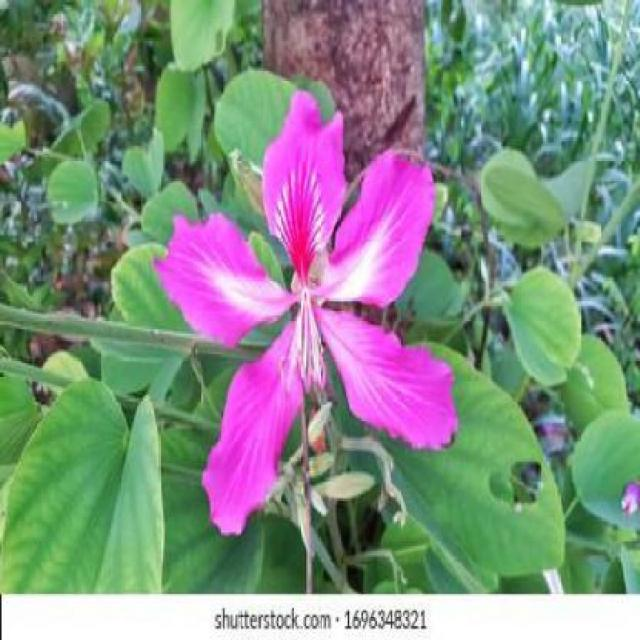flower: (146, 77, 460, 548)
